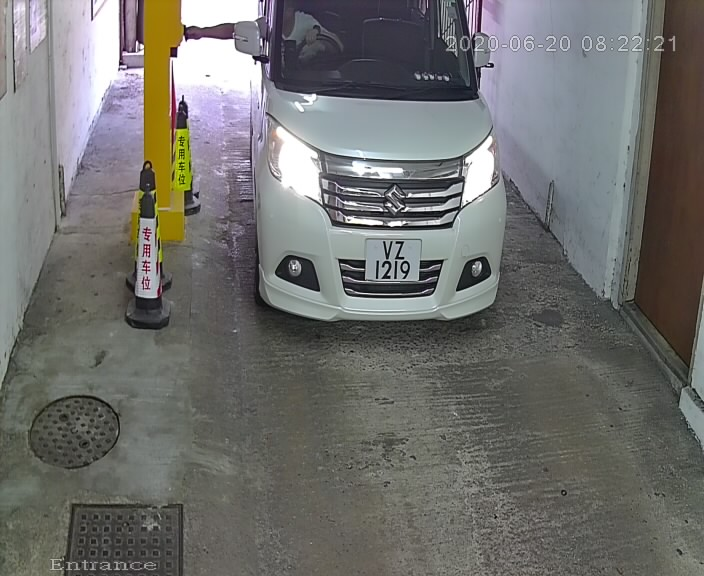privatecar: (222, 3, 526, 360)
